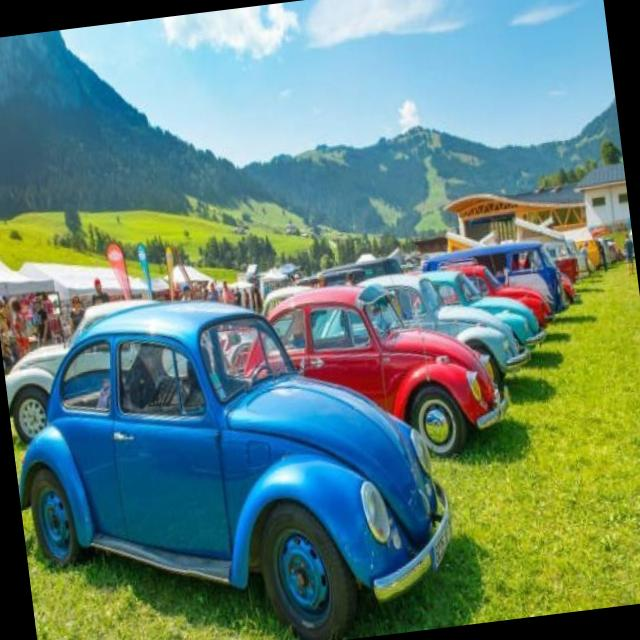car: (4, 274, 460, 640), (259, 253, 500, 467)
